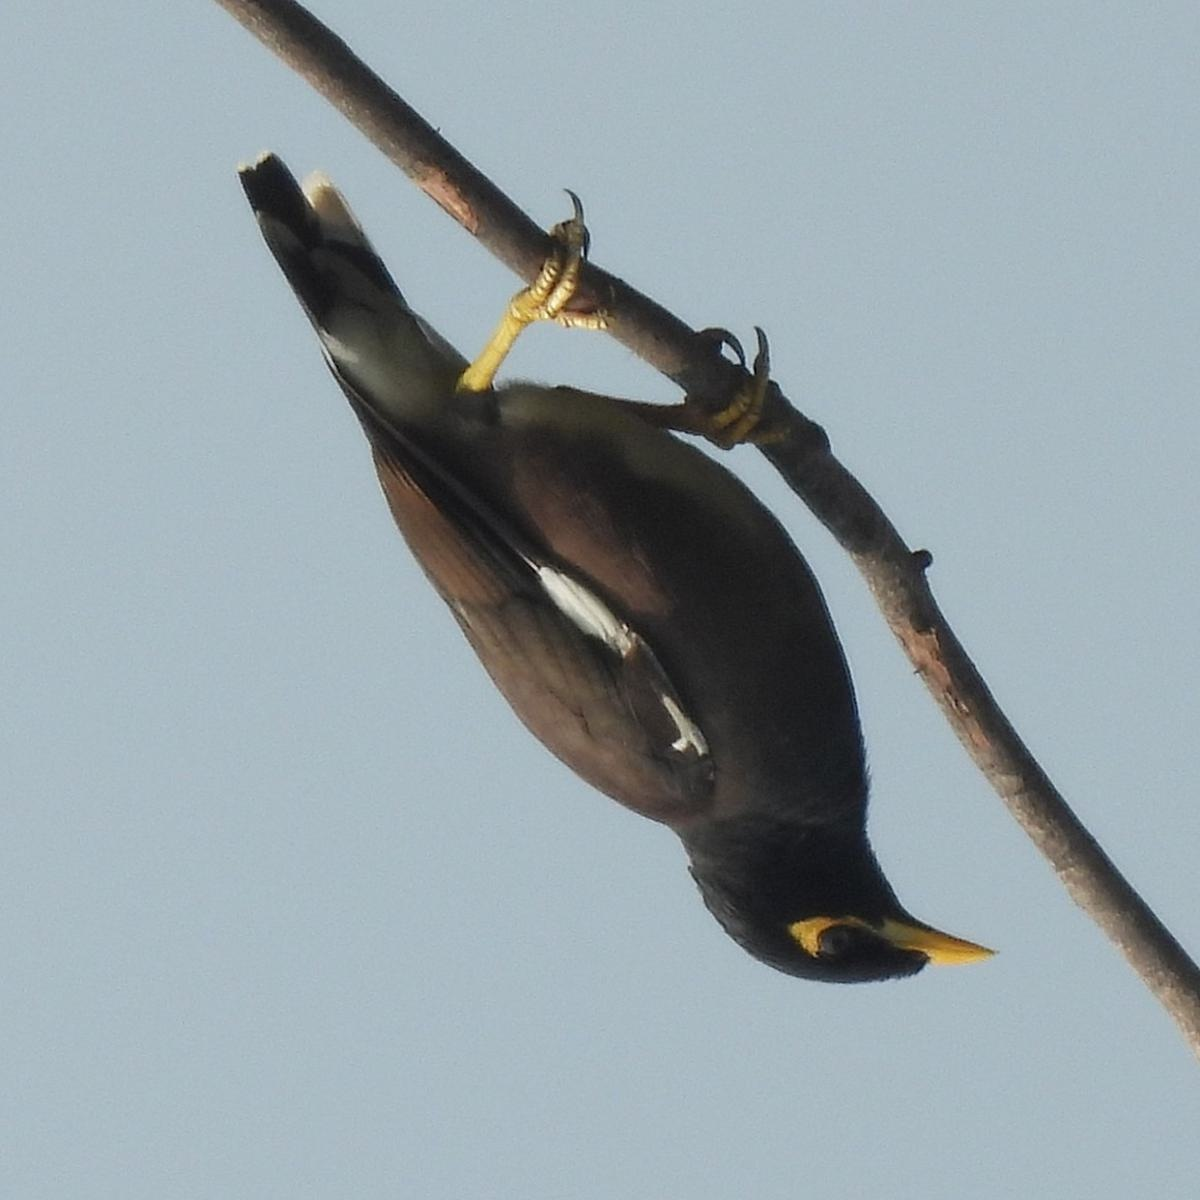myna: (233, 188, 1020, 993)
